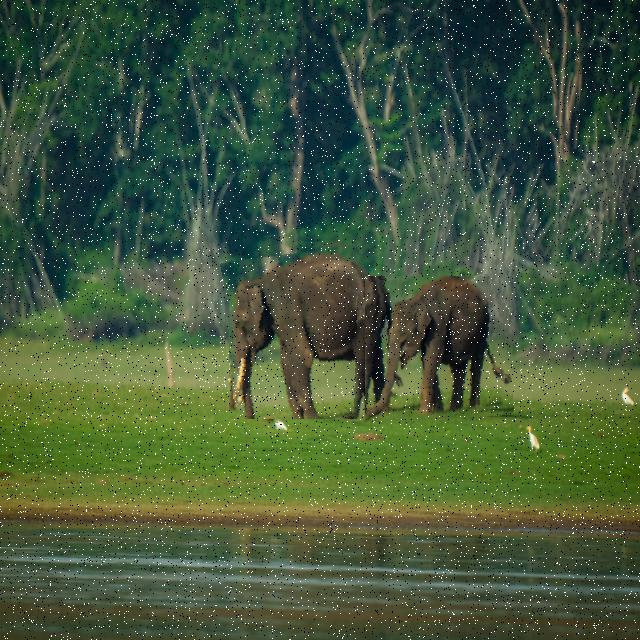elephant: (229, 233, 419, 419), (365, 276, 512, 422)
